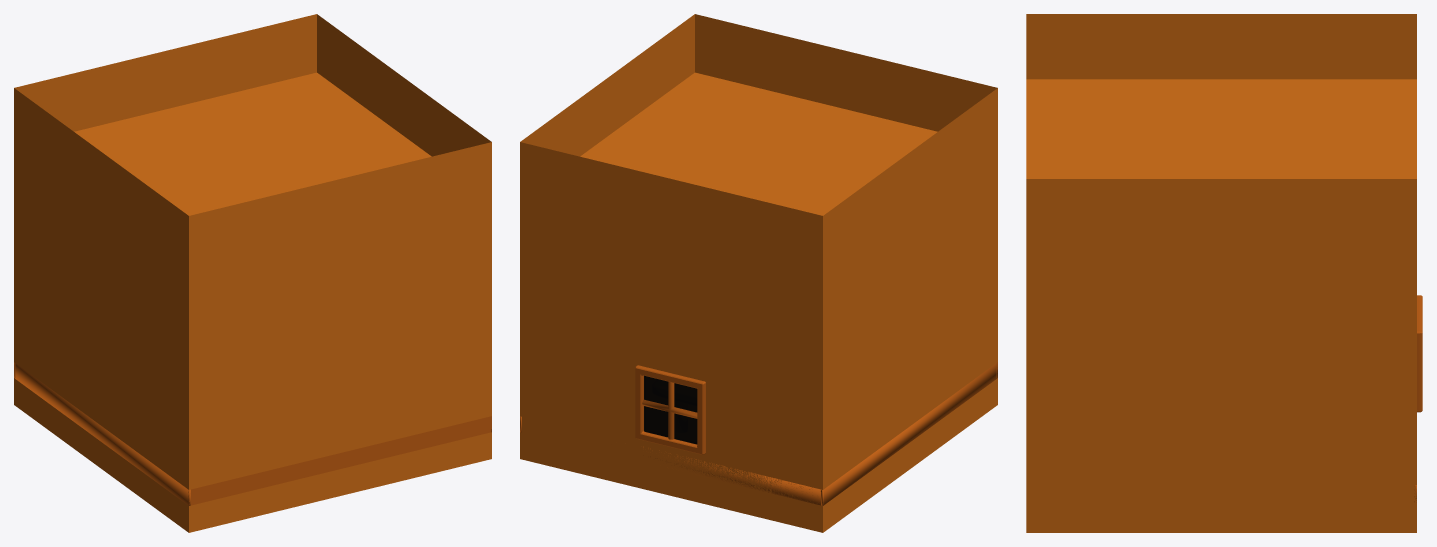
File: table-room.glb
The picture shows the model from 3 angles, left to right: view 1: azimuth 30°, elevation 25°; view 2: azimuth 150°, elevation 25°; view 3: azimuth 270°, elevation 25°; orthographic projection. The views are drawn at different scales.
Visible parts, largest first — view 1: WallF, WallL, Roof, WallB, WallR, WallAccent; view 2: WallB, WallL, Roof, WallF, WallR, WallAccent, Glass, Frame, Bars; view 3: WallR, Roof, WallL, Frame.
Part boxes in pixels (<box>): WallF: <box>189,142,491,532</box>; WallL: <box>14,88,188,532</box>; Roof: <box>74,72,431,215</box>; WallB: <box>14,14,316,131</box>; WallR: <box>317,14,491,156</box>; WallAccent: <box>14,362,491,505</box>; WallB: <box>520,142,822,532</box>; WallL: <box>823,88,997,532</box>; Roof: <box>580,72,937,215</box>; WallF: <box>695,14,997,131</box>; WallR: <box>520,14,694,156</box>; WallAccent: <box>520,362,997,505</box>; Glass: <box>644,375,697,444</box>; Frame: <box>635,365,705,454</box>; Bars: <box>642,381,697,439</box>; WallR: <box>1026,179,1416,532</box>; Roof: <box>1026,79,1416,178</box>; WallL: <box>1026,14,1416,79</box>; Frame: <box>1417,295,1422,412</box>.
Size of the model in its own units: 3.35 by 3.35 by 3.4.
